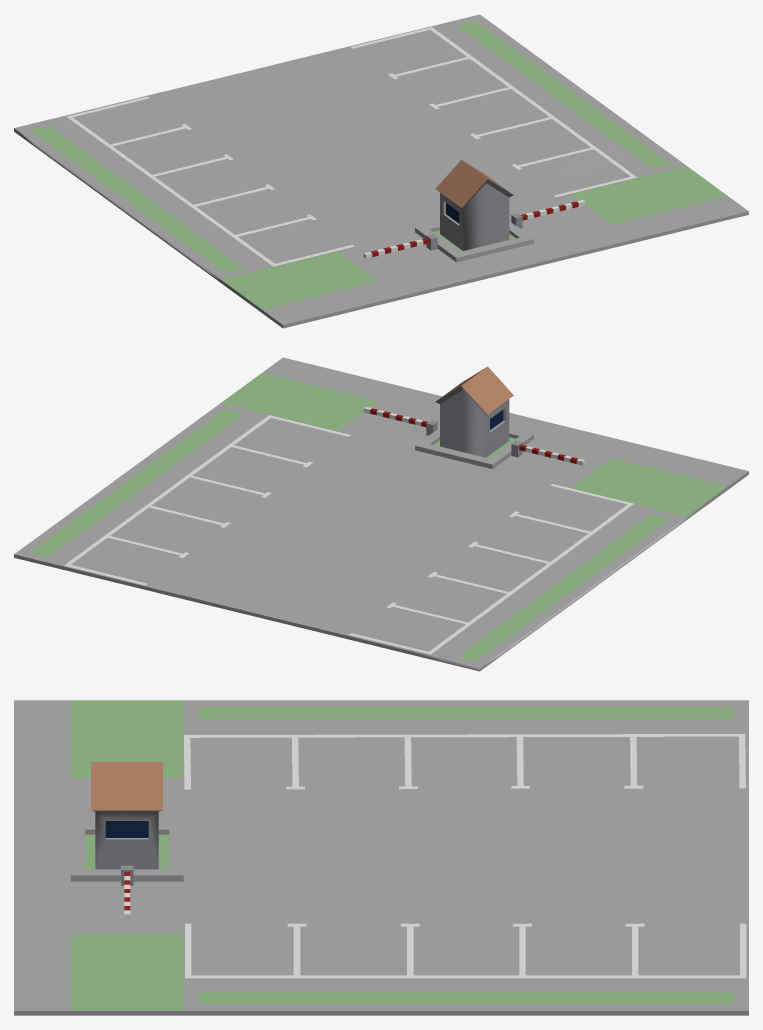
Rendered from Parking.fbx.
The picture shows the model from 3 angles, top to bottom: view 1: azimuth 30°, elevation 25°; view 2: azimuth 150°, elevation 25°; view 3: azimuth 270°, elevation 25°; orthographic projection. The views are drawn at different scales.
Visible parts, largest first — view 1: Cube.001; view 2: Cube.001; view 3: Cube.001.
Boxes of the visible parts, <box> form: Cube.001: <box>14,14,748,328</box>; Cube.001: <box>14,357,748,671</box>; Cube.001: <box>14,700,748,1015</box>.
Bounding box in the file's own units: 4000 × 590 × 4000.
